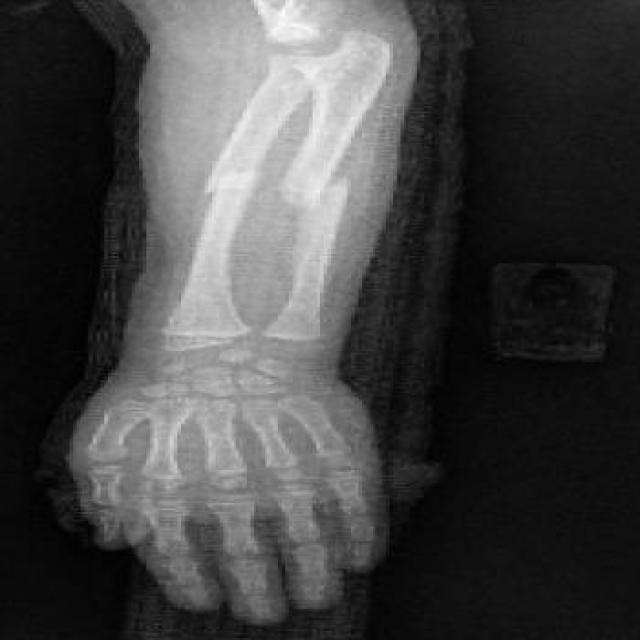fracture: (287, 163, 368, 212), (185, 171, 265, 202)
